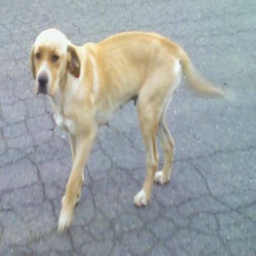dog: (29, 25, 205, 232)
